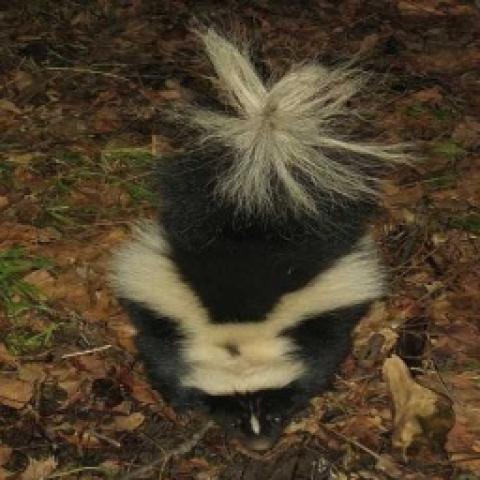small_animal: (103, 17, 420, 452)
